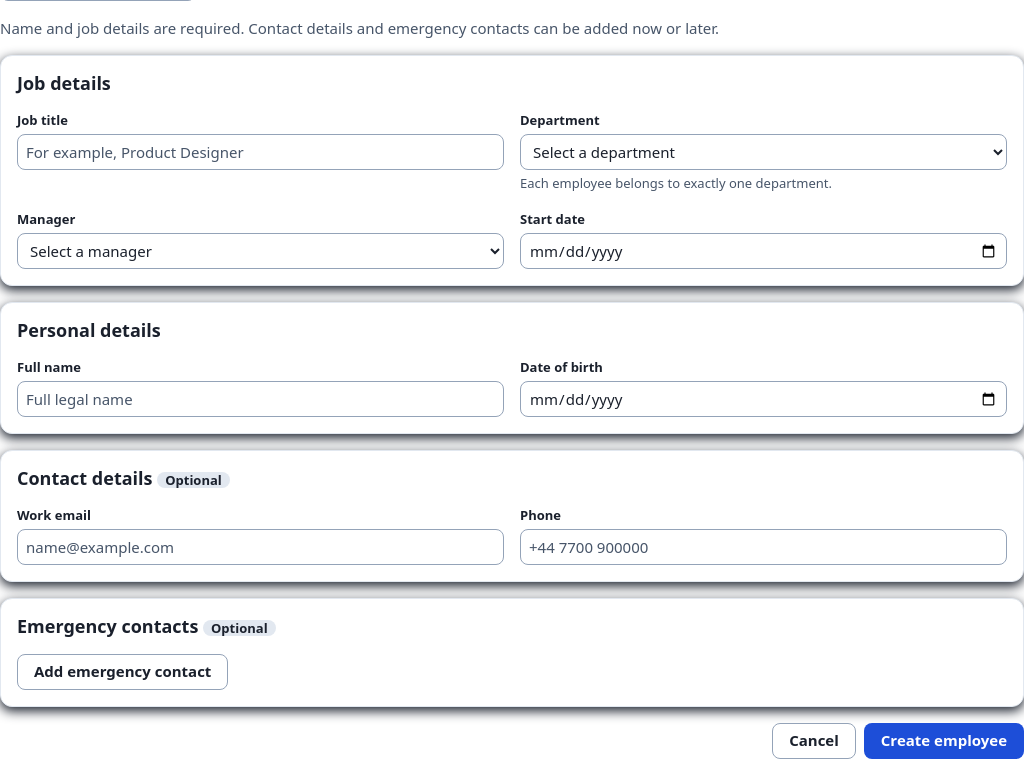
it: EmployeeRecordPage: new record › blocks a blank form: alert, five invalid fields, nothing sent (AC8)
(page scrolled)
Click the button "Create employee".
click(944, 740)  # box top-left (864, 722), bottom-right (1023, 758)
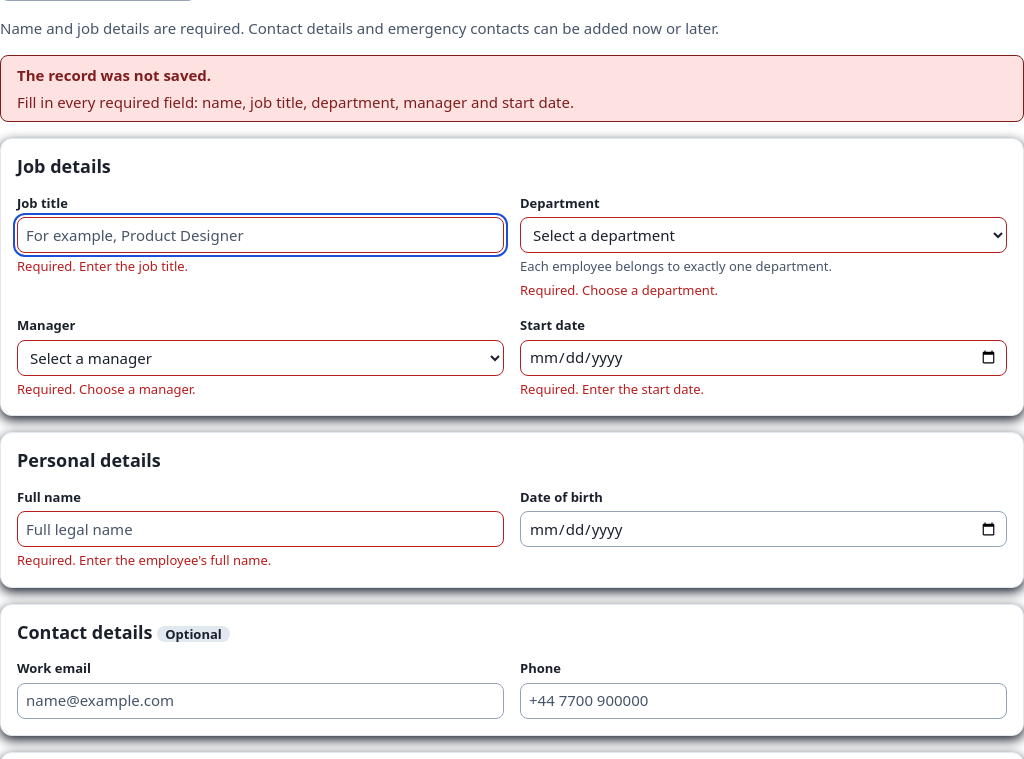
Check: the message shows "The record was not saved.", box top-left (17, 65), bottom-right (211, 85)
Check: the message shows "Fill in every required field: name, job title, department, manager and start date.", box top-left (17, 92), bottom-right (574, 112)
Check: the text "Required. Choose a department." is shown, box top-left (520, 280), bottom-right (718, 298)
